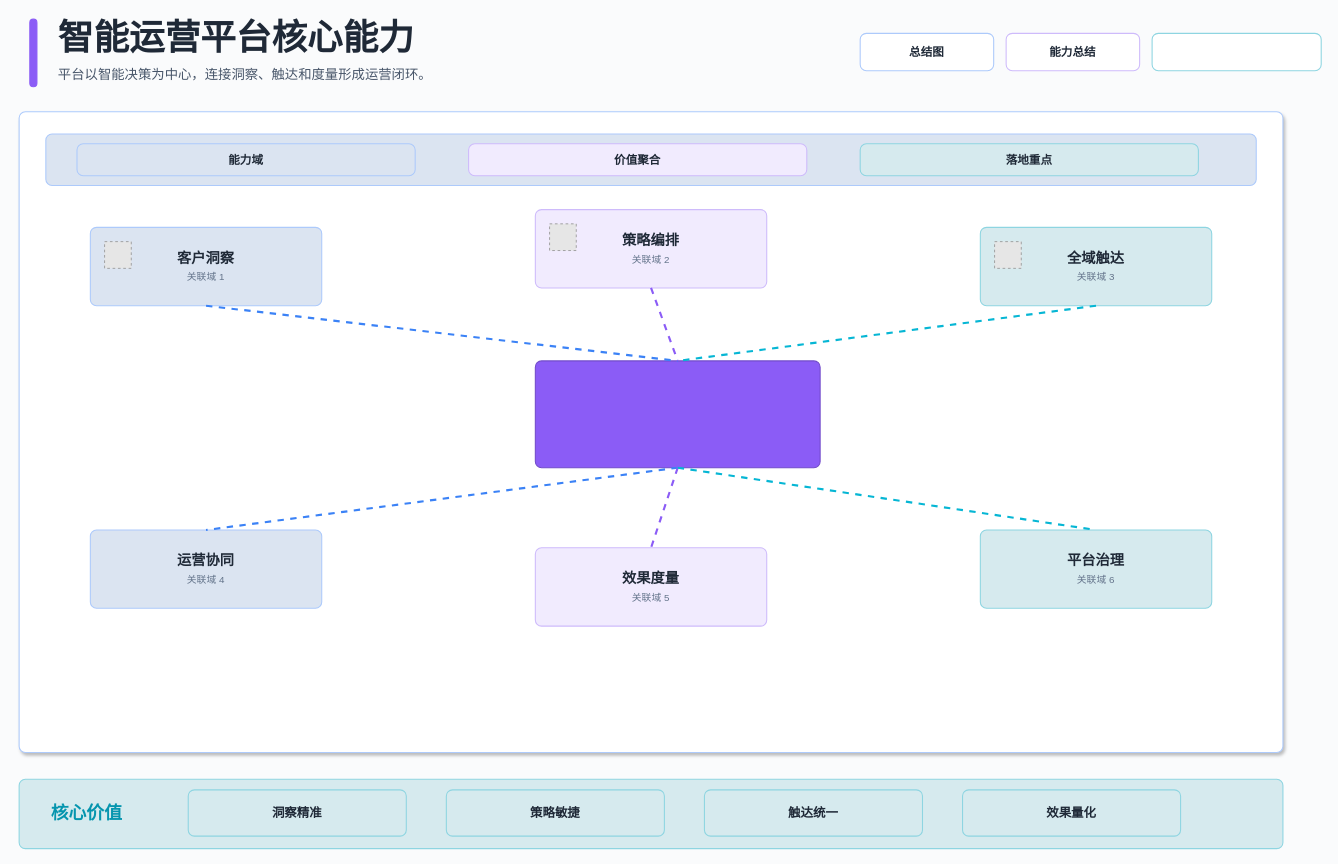
Some shapes in this 1338 by 864 pixel diagram are drawn without their labels. Grey dashed boxes stand in for pictures. Here are the shapes that lost their labels. From the top down, the centre of each, then its label:
At point (1236, 51): "Vibrant".
At point (677, 414): "智能决策 核心能力".
